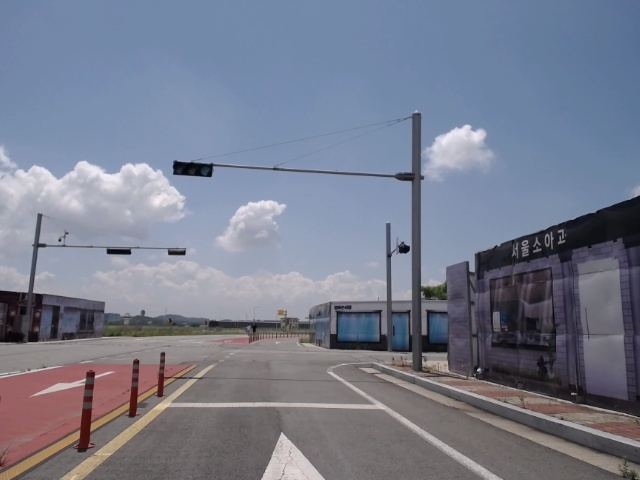green_3: (175, 161, 211, 176)
